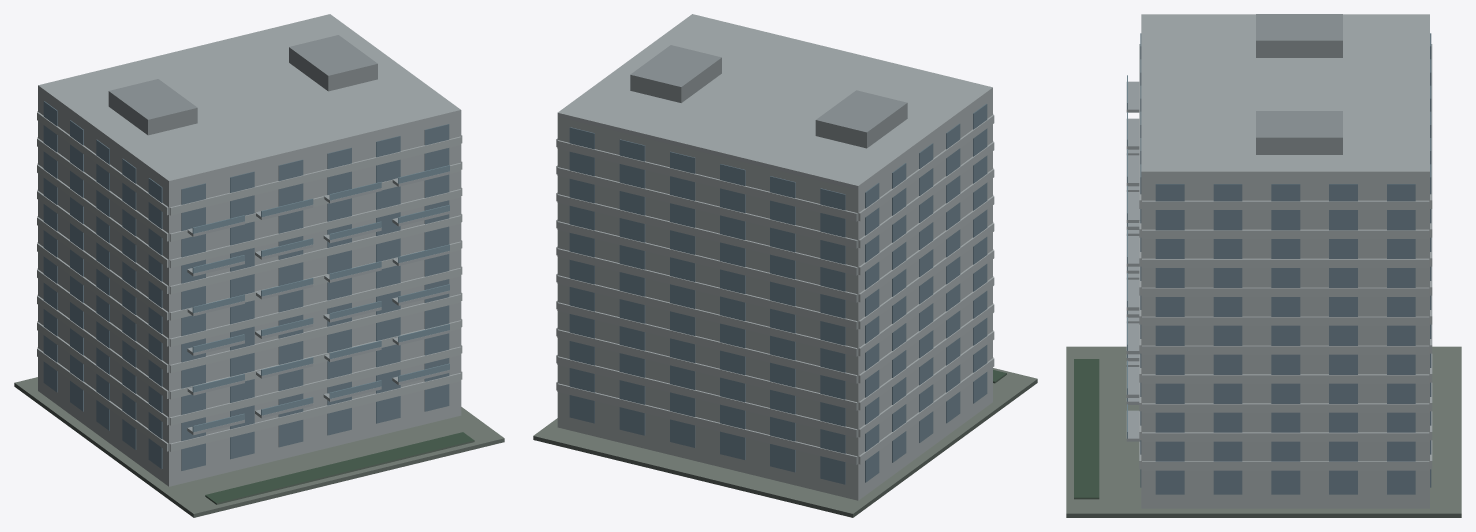
The model's file is residential-slab.glb.
3 renders of one model, left to right at view 1: azimuth 30°, elevation 25°; view 2: azimuth 150°, elevation 25°; view 3: azimuth 270°, elevation 25°, orthographic. The views are drawn at different scales.
Parts seen in each view (by area): view 1: residential-slab; view 2: residential-slab; view 3: residential-slab.
Boxes of the visible parts, <box> form: residential-slab: <box>14,14,504,517</box>; residential-slab: <box>533,14,1037,517</box>; residential-slab: <box>1066,14,1461,517</box>.
Size of the model in its own units: 1 by 1 by 1.
